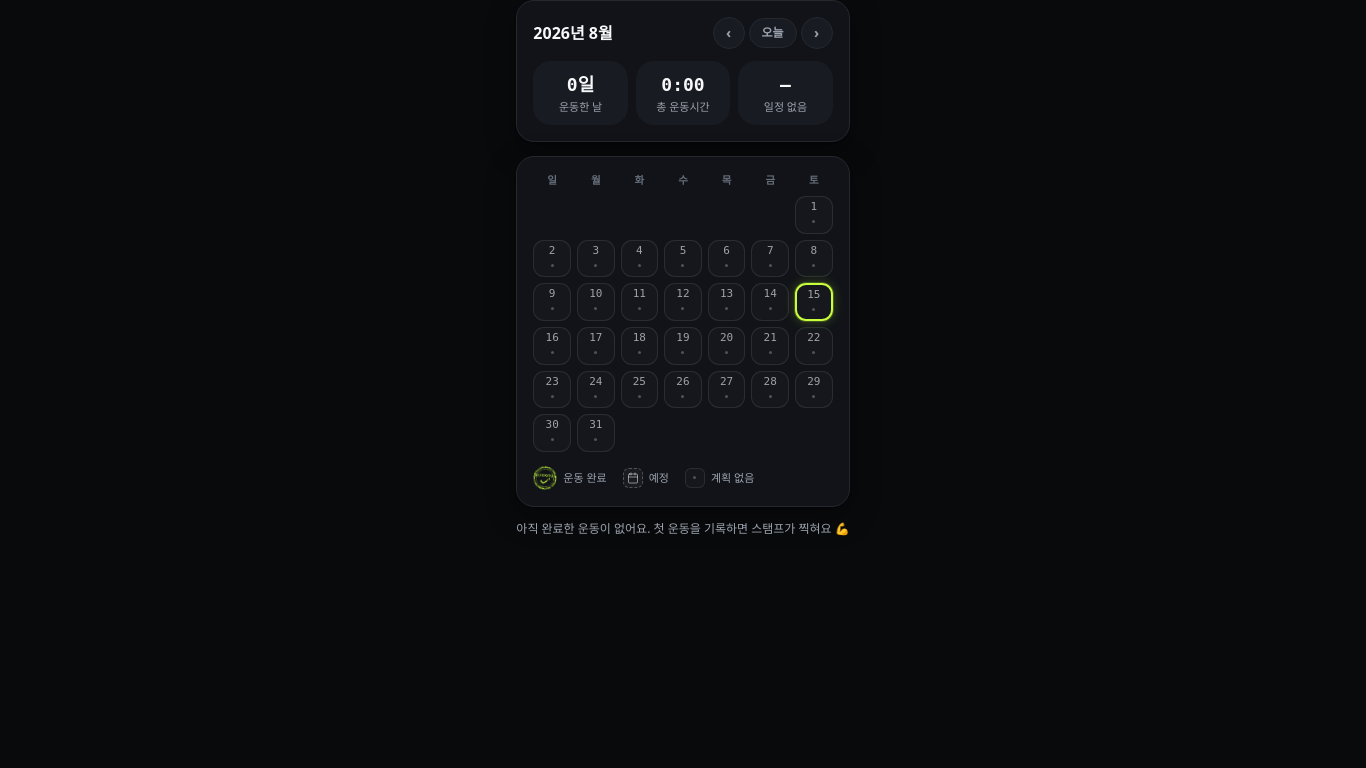
Scenario: CalendarView — 날짜를 눌러 계획하기 (2026-08-02) › 미래의 빈 날짜를 누르면 계획 만들기 버튼이 있는 시트가 열린다
Expected: the heading "2026년 8월" is shown, [533,21,613,45]
Expected: the text "➕ 새 운동 계획 만들기" is not shown
Click the button named "8월 16일,": (552, 346) [533,327,571,365]
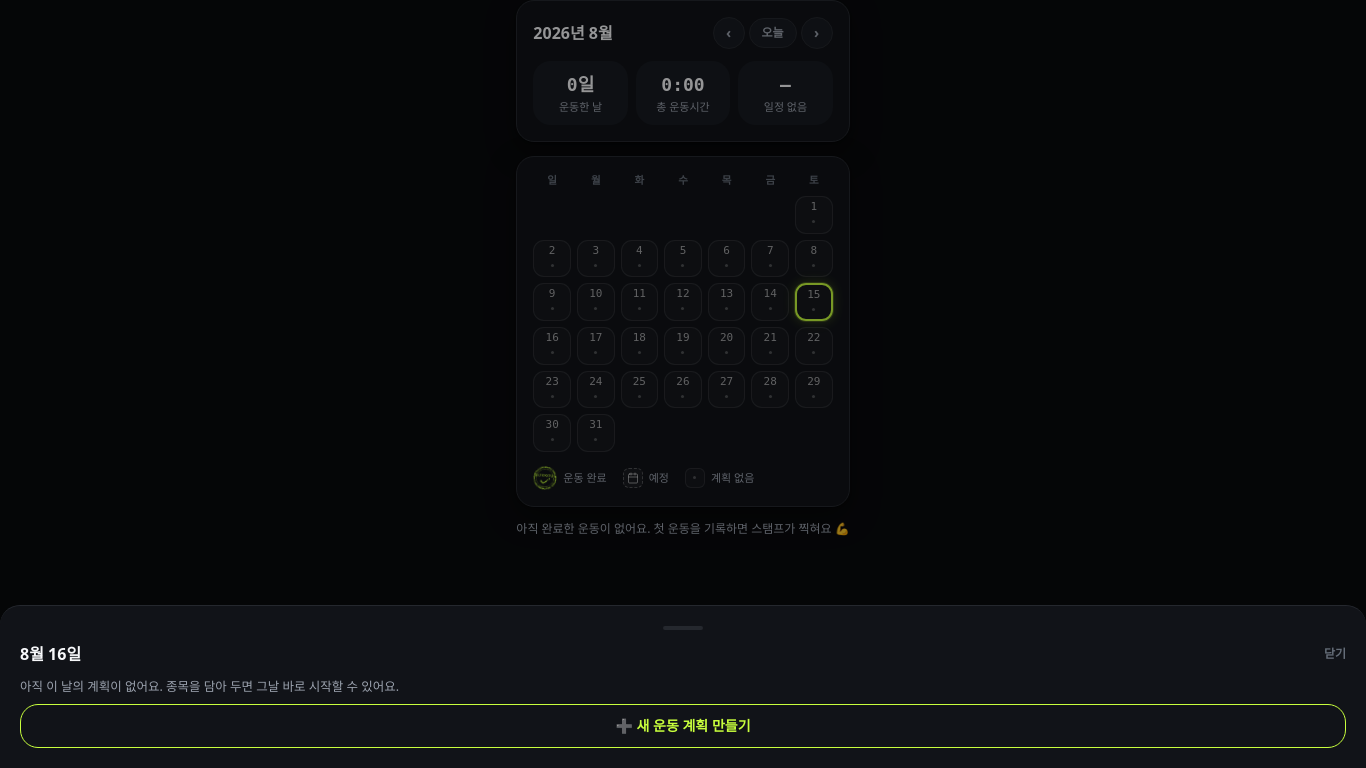
Expected: the button "➕ 새 운동 계획 만들기" is shown, [20,704,1346,748]
Expected: the text "아직 이 날의 계획이 없어요. 종목을 담아 두면 그날 바로 시작할 수 있어요." is shown, [20,678,399,695]
